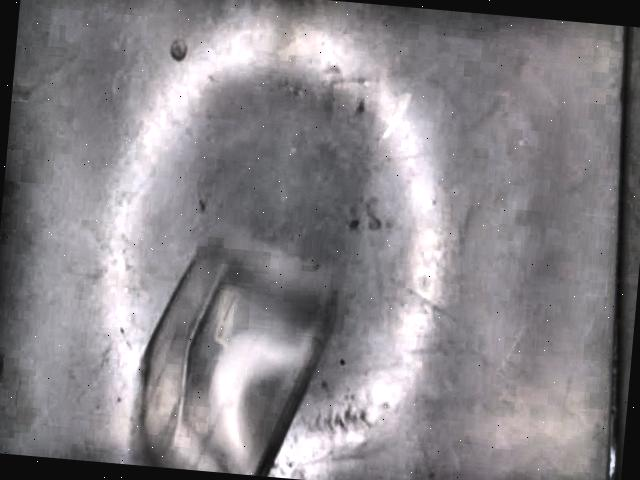Plastic: (141, 226, 342, 476)
